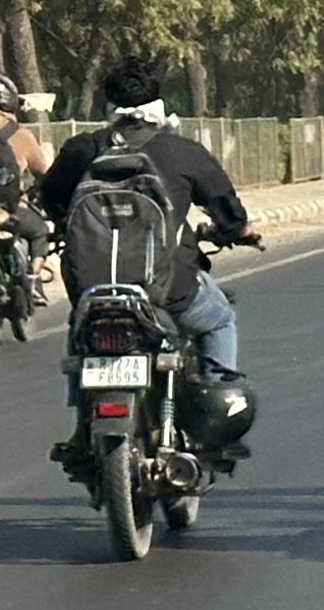BikeWithRider: (31, 50, 266, 560)
NoHelmet: (97, 52, 167, 141)
